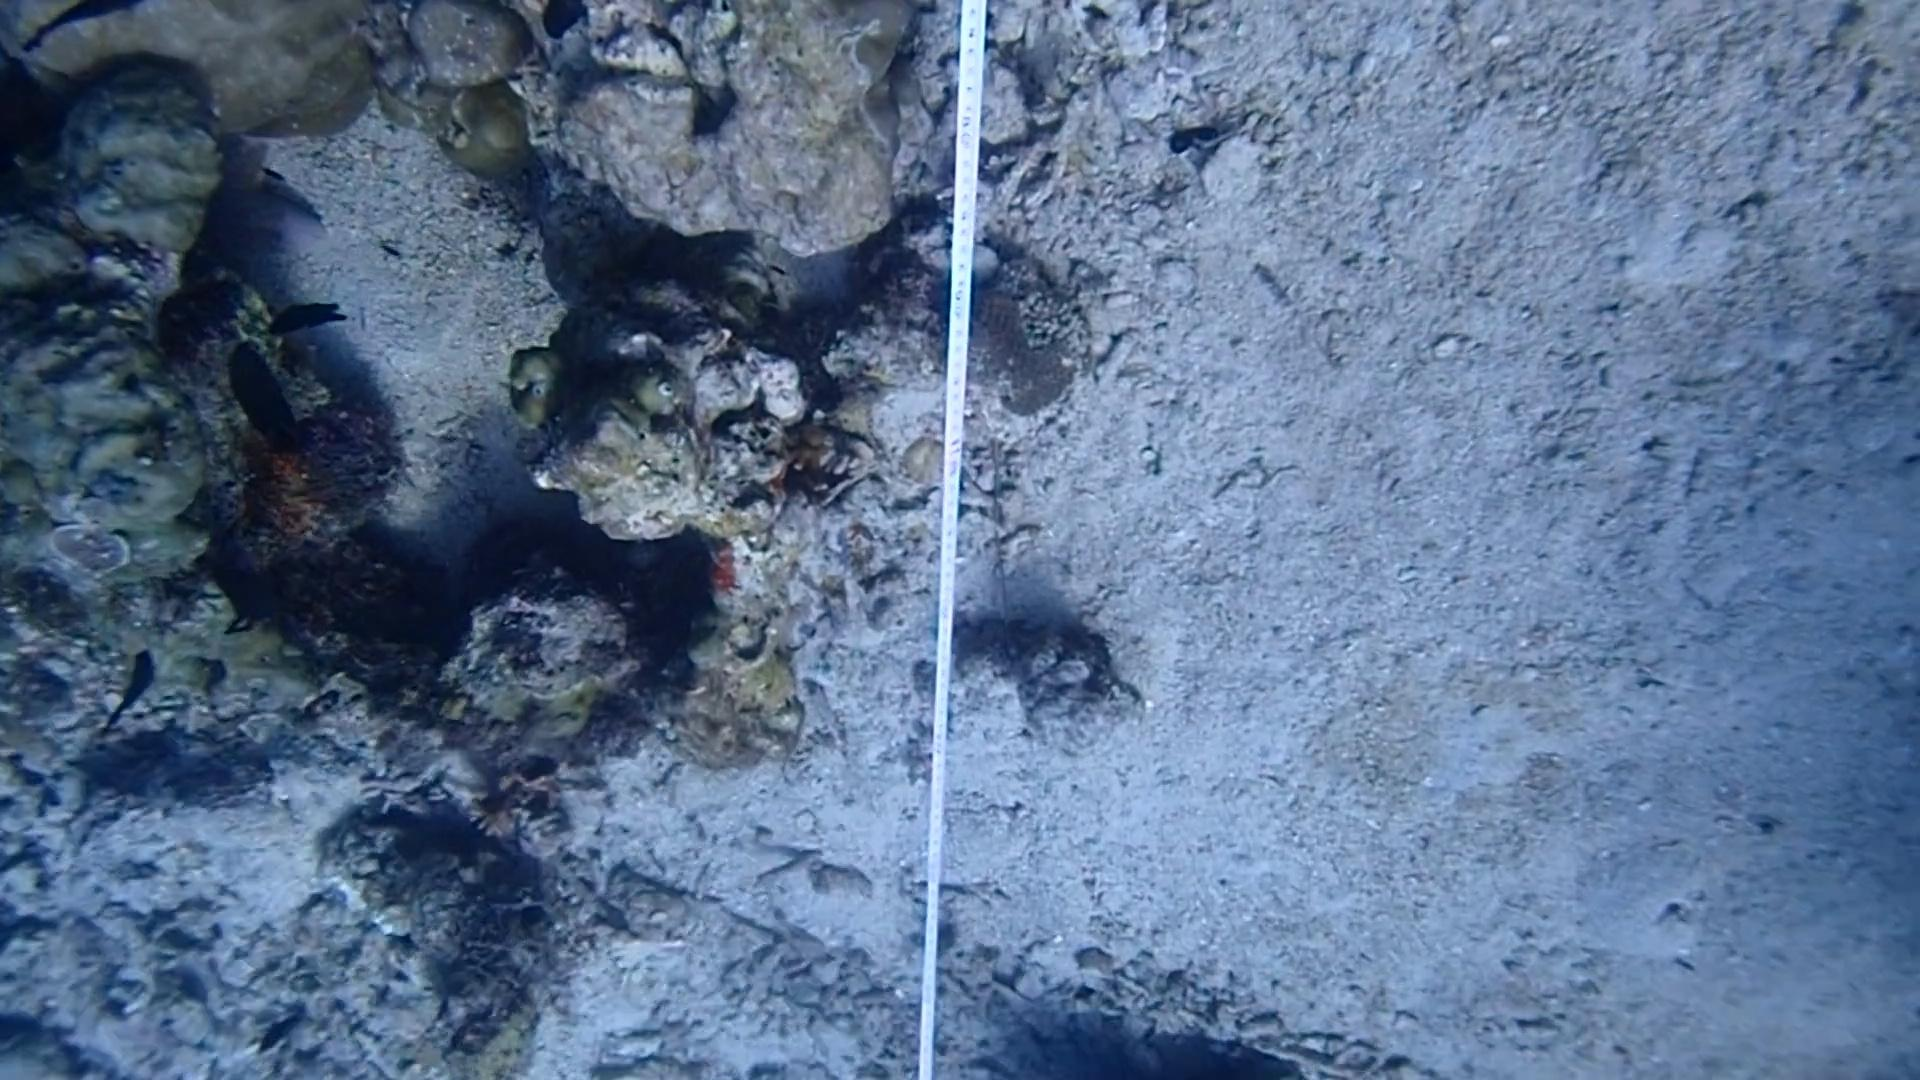Dark Fish: (207, 336, 318, 469), (105, 641, 174, 746), (20, 0, 148, 53), (265, 285, 361, 345), (253, 1002, 307, 1063)
